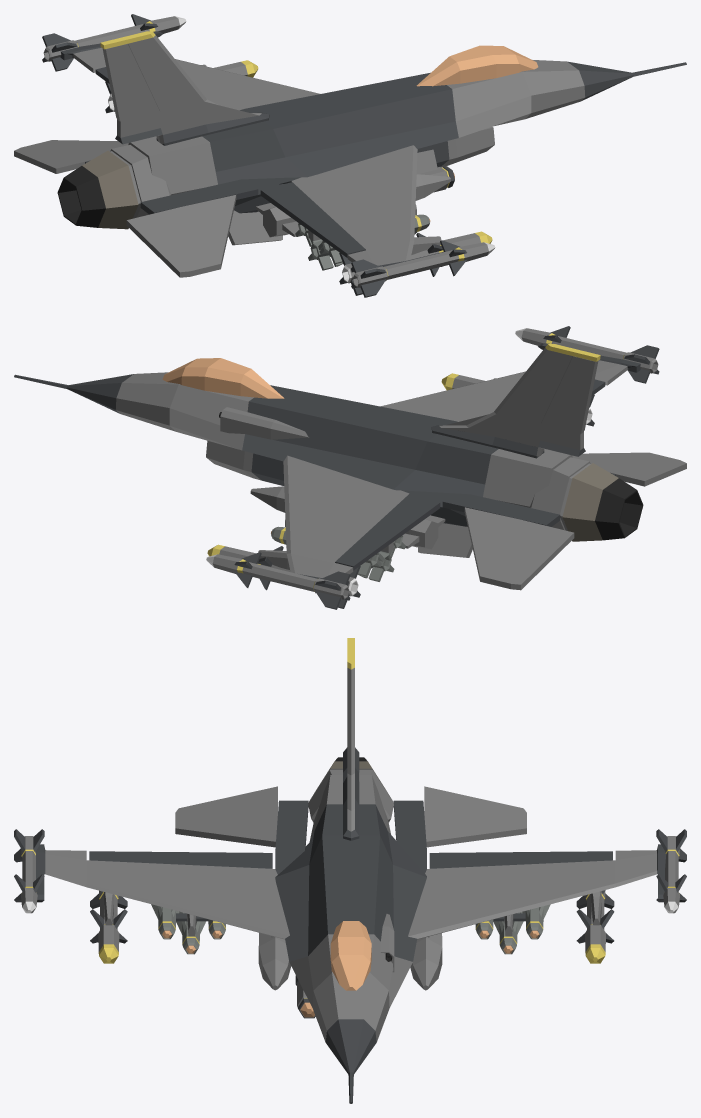
3 views of the same model, one above another, from view 1: azimuth 30°, elevation 25°; view 2: azimuth 150°, elevation 25°; view 3: azimuth 270°, elevation 25° (orthographic). The views are drawn at different scales.
Visible parts, largest first — view 1: Cylinder.001_LightGrey_0, Cylinder.001_Grey_0, Cylinder.001_Black_0, Cylinder.001_Green_0; view 2: Cylinder.001_LightGrey_0, Cylinder.001_Grey_0, Cylinder.001_Black_0, Cylinder.001_Green_0; view 3: Cylinder.001_LightGrey_0, Cylinder.001_Grey_0, Cylinder.001_Black_0, Cylinder.001_Green_0.
Boxes of the visible parts, x1,y1,x2,y2 form: Cylinder.001_LightGrey_0: (14, 16, 585, 287); Cylinder.001_Grey_0: (42, 14, 686, 297); Cylinder.001_Black_0: (57, 16, 538, 283); Cylinder.001_Green_0: (295, 214, 429, 270); Cylinder.001_LightGrey_0: (115, 328, 686, 599); Cylinder.001_Grey_0: (14, 326, 659, 609); Cylinder.001_Black_0: (162, 328, 643, 596); Cylinder.001_Green_0: (271, 526, 405, 581); Cylinder.001_LightGrey_0: (21, 668, 679, 1041); Cylinder.001_Grey_0: (14, 747, 686, 1103); Cylinder.001_Black_0: (21, 638, 679, 1017); Cylinder.001_Green_0: (151, 904, 550, 954).
Size of the model in its own units: 15 by 5.2 by 13.65.
